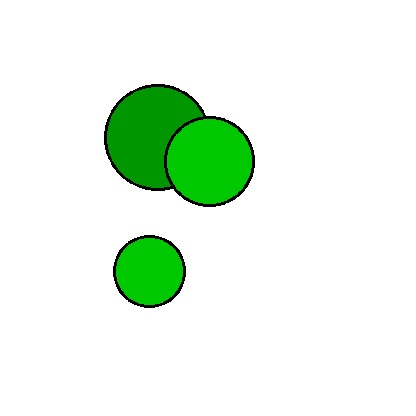circle: (105, 81, 210, 194), (153, 117, 266, 206), (99, 236, 200, 307)
